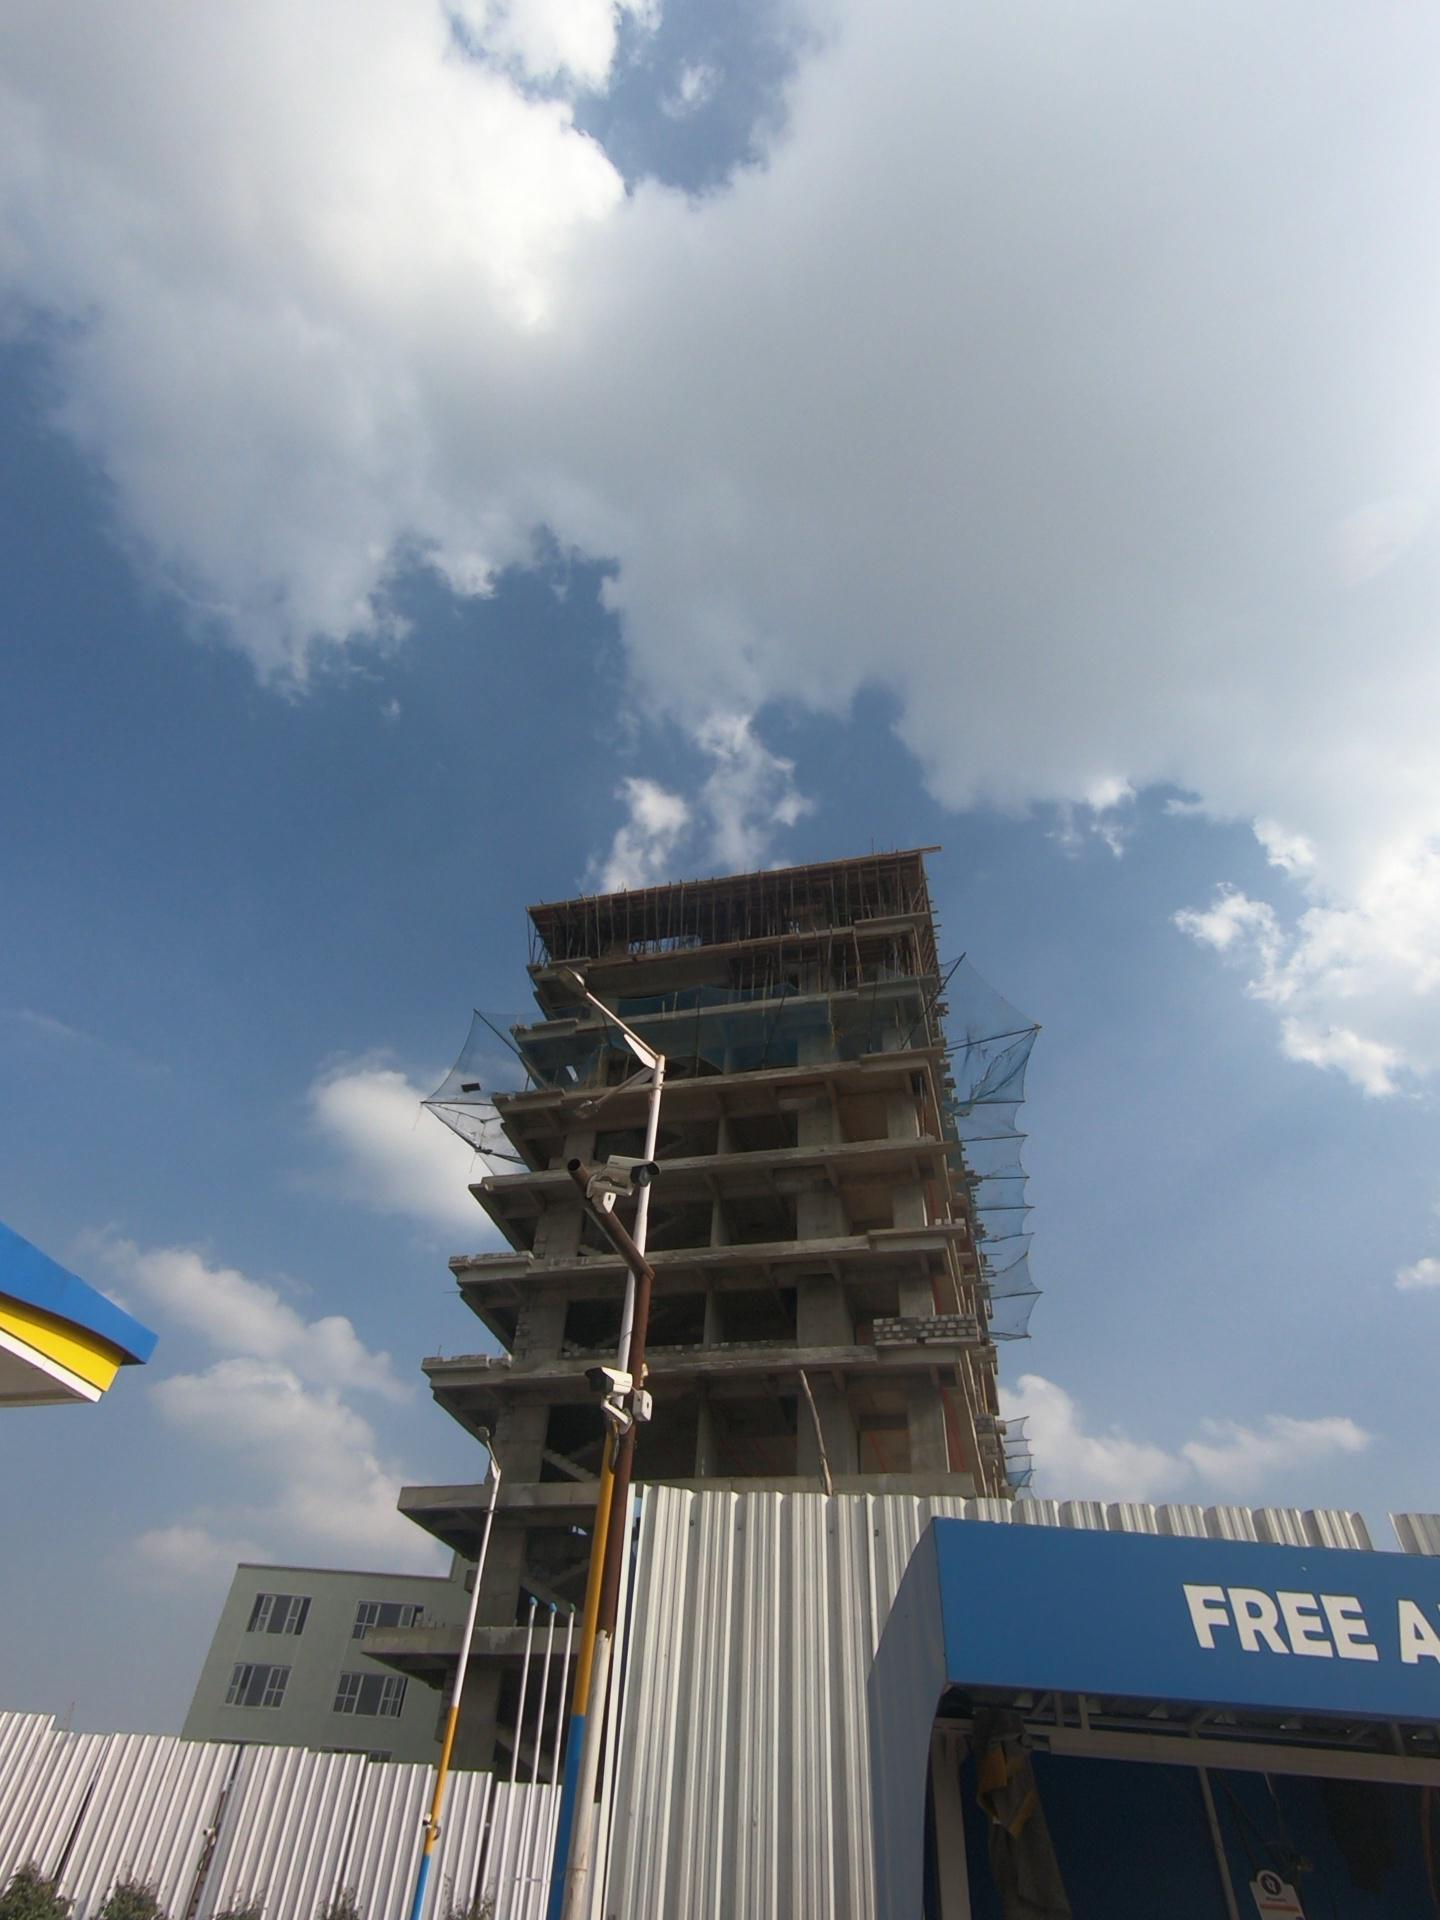off: (560, 977, 723, 1312)
